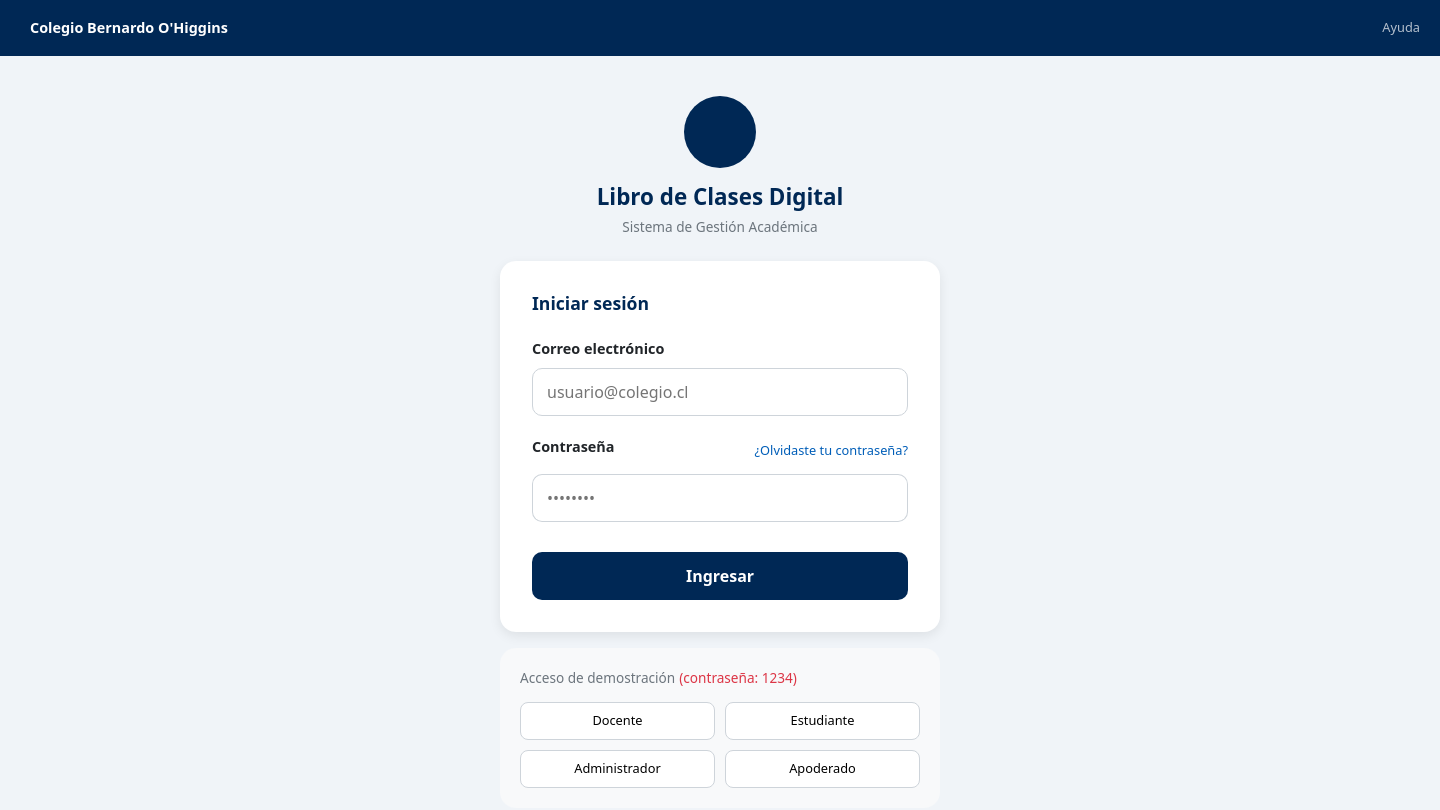
Test: LoginPage › muestra un error cuando el login falla
The image size is (1440, 810).
Type "admin@colegio.com" into the field with placeholder "usuario@colegio.cl" at x=720, y=392, box [532,368,908,416]
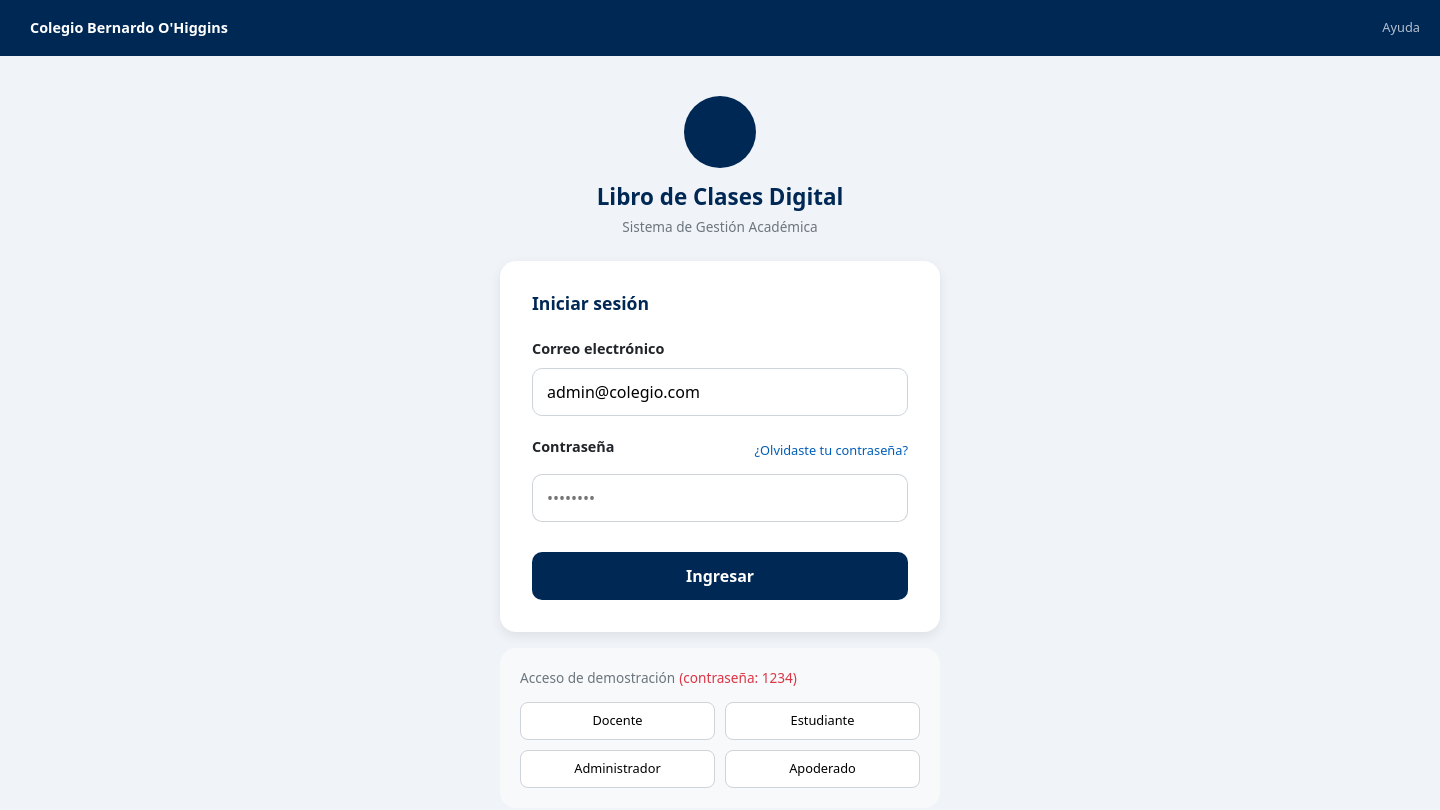
Type "1234" into the password field with placeholder "••••••••" at x=695, y=498, box [532,474,858,522]
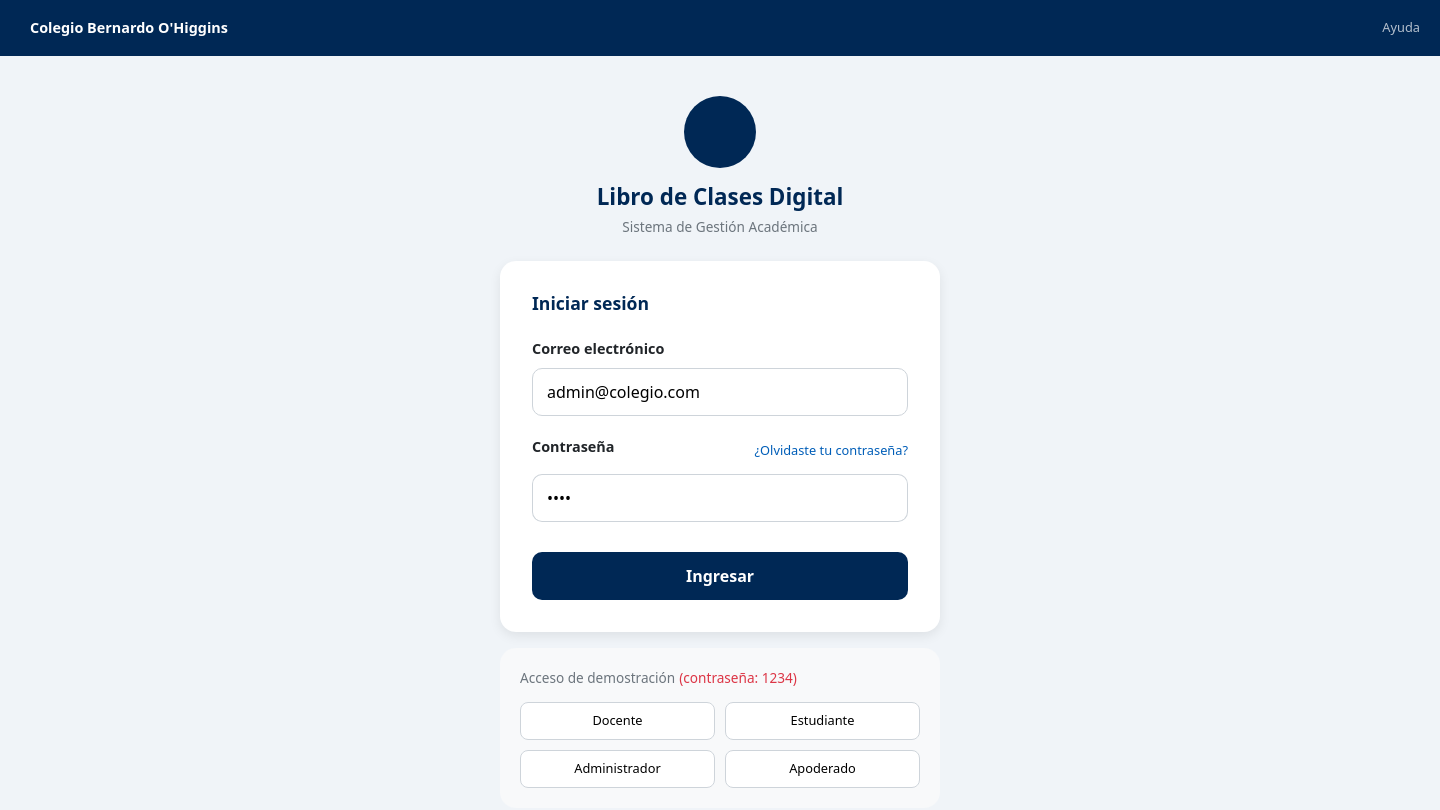
Click the button "Ingresar" at x=720, y=576, box [532,552,908,600]
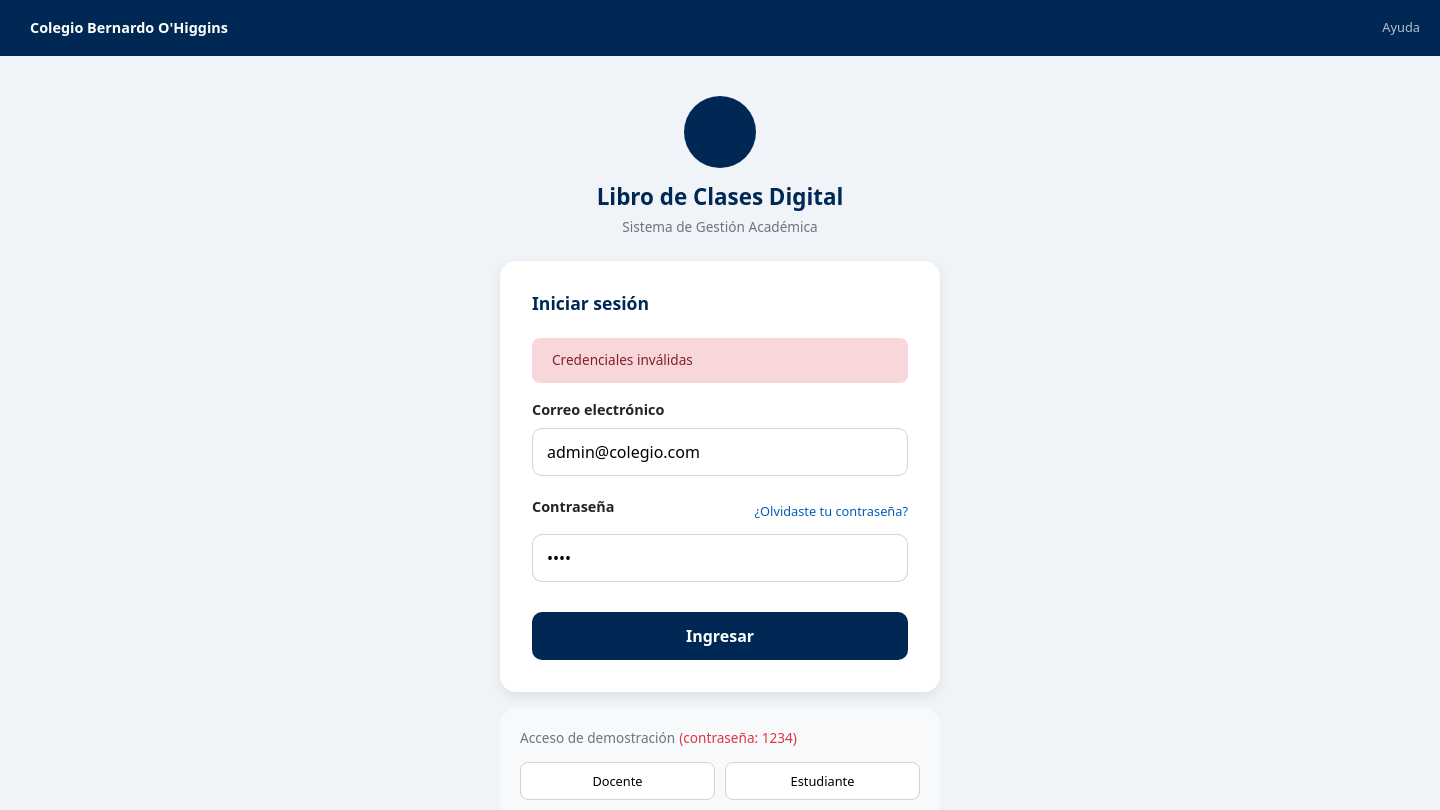
Expected: the text "Credenciales inválidas" is shown, [552,350,693,371]
